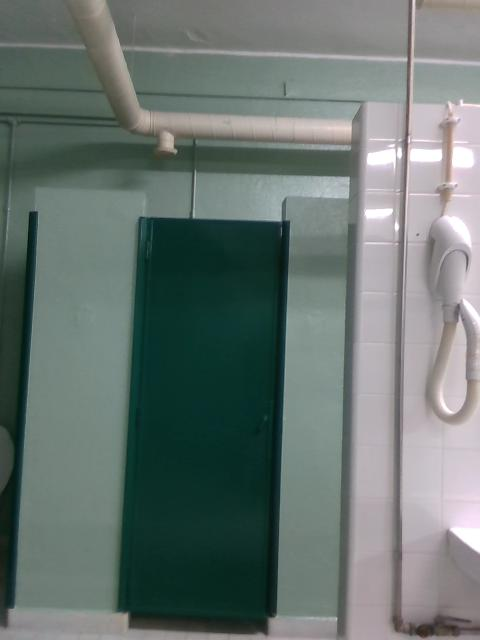door: (130, 217, 288, 612)
